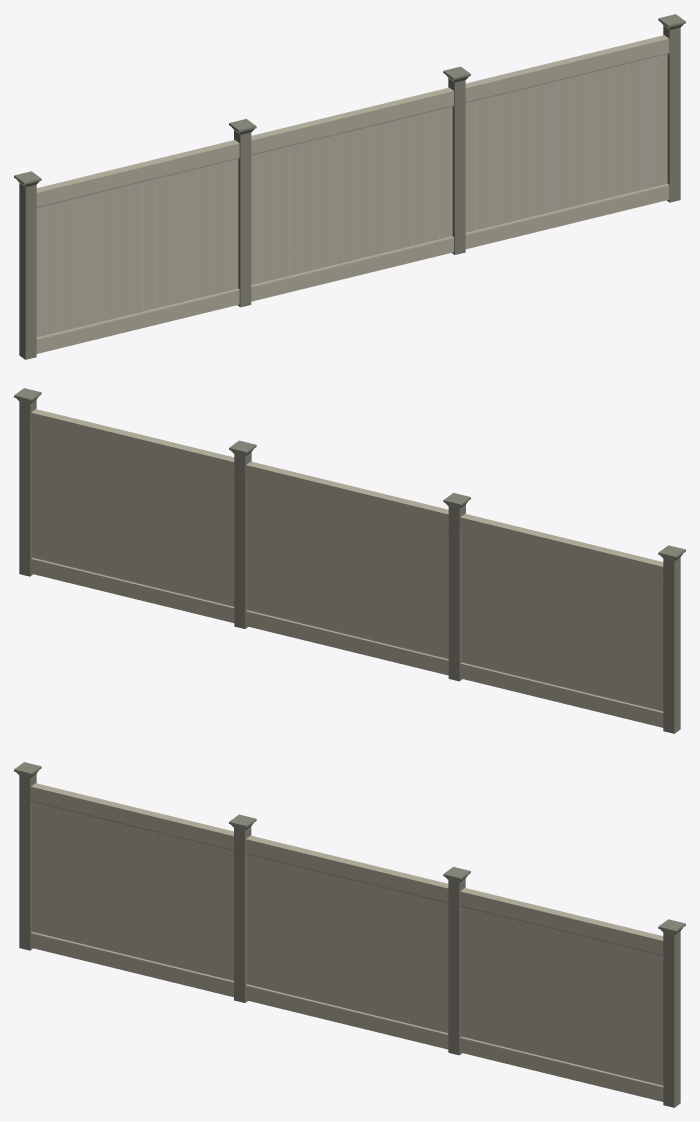
Rendered from Biege_Pvc_.fbx.
3 views of the same model, one above another, from view 1: azimuth 30°, elevation 25°; view 2: azimuth 150°, elevation 25°; view 3: azimuth 330°, elevation 25° (orthographic).
Parts seen in each view (by area): view 1: Pvc_Panel_2, Pvc_Panel_, Pvc_Panel_1, Pvc_Joint_04, Pvc_Joint_03, Pvc_Joint_02, Pvc_Joint_01; view 2: Pvc_Panel_, Pvc_Panel_2, Pvc_Panel_1, Pvc_Joint_04, Pvc_Joint_03, Pvc_Joint_02, Pvc_Joint_01; view 3: Pvc_Panel_2, Pvc_Panel_1, Pvc_Panel_, Pvc_Joint_01, Pvc_Joint_02, Pvc_Joint_04, Pvc_Joint_03.
Boxes of the visible parts, <box> form: Pvc_Panel_2: <box>465,35,669,249</box>; Pvc_Panel_: <box>36,140,239,353</box>; Pvc_Panel_1: <box>251,87,453,301</box>; Pvc_Joint_04: <box>14,171,41,359</box>; Pvc_Joint_03: <box>229,119,256,307</box>; Pvc_Joint_02: <box>443,66,470,254</box>; Pvc_Joint_01: <box>658,14,685,202</box>; Pvc_Panel_: <box>460,513,663,727</box>; Pvc_Panel_2: <box>31,409,234,622</box>; Pvc_Panel_1: <box>246,461,448,675</box>; Pvc_Joint_04: <box>658,545,685,733</box>; Pvc_Joint_03: <box>443,493,470,681</box>; Pvc_Joint_02: <box>229,440,256,628</box>; Pvc_Joint_01: <box>14,388,41,576</box>; Pvc_Panel_2: <box>460,888,663,1101</box>; Pvc_Panel_1: <box>245,835,448,1049</box>; Pvc_Panel_: <box>30,783,233,997</box>; Pvc_Joint_01: <box>658,919,685,1107</box>; Pvc_Joint_02: <box>443,867,470,1055</box>; Pvc_Joint_04: <box>14,762,41,950</box>; Pvc_Joint_03: <box>229,814,256,1002</box>.
Size of the model in its own units: 765 by 198 by 20.3.
2 materials, 1 textured.
